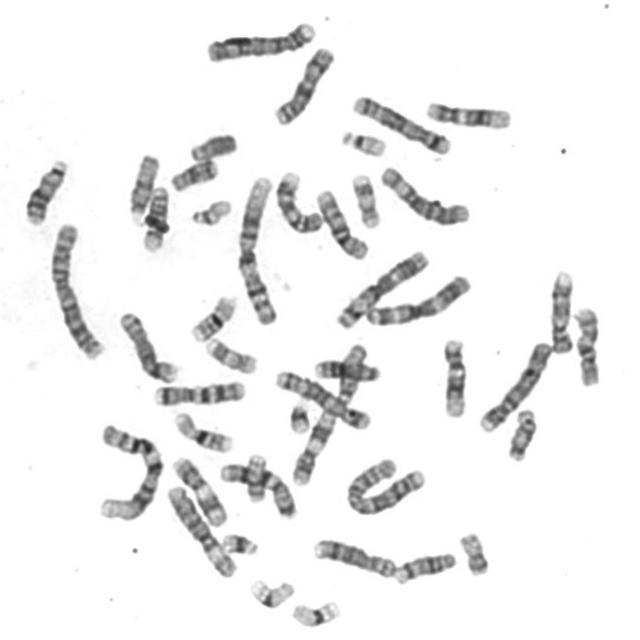A1: (92, 416, 166, 524), (231, 170, 280, 326)
A2: (44, 216, 107, 360), (340, 452, 428, 518)
A3: (329, 244, 432, 332), (358, 268, 474, 328)
B4: (472, 334, 554, 434), (201, 14, 318, 64)
B5: (346, 88, 453, 156), (269, 364, 373, 432)
C10: (310, 184, 371, 262), (569, 301, 605, 388)
C11: (281, 406, 344, 486), (165, 450, 228, 528)
C12: (419, 94, 514, 131), (436, 334, 470, 418)
C6: (160, 479, 238, 580), (374, 160, 472, 228)
C7: (214, 457, 298, 521), (147, 374, 248, 408)
C8: (112, 304, 180, 384), (308, 532, 399, 580)
C9: (270, 164, 324, 234), (544, 264, 577, 354)
D13: (18, 152, 70, 228), (309, 352, 382, 383)
D14: (389, 546, 458, 586), (136, 180, 172, 253)
D15: (122, 148, 162, 225), (329, 338, 372, 404)
E16: (167, 404, 236, 454), (184, 288, 240, 342)
E17: (200, 332, 260, 376), (346, 168, 382, 230)
E18: (164, 152, 220, 194), (502, 402, 538, 462)
F19: (285, 593, 343, 629), (243, 572, 297, 610)
F20: (454, 526, 492, 577), (240, 448, 269, 504)
G21: (216, 527, 260, 557), (283, 394, 312, 436)
G22: (335, 124, 388, 158), (184, 192, 233, 228)
X: (268, 40, 337, 127)
Y: (184, 126, 238, 163)
